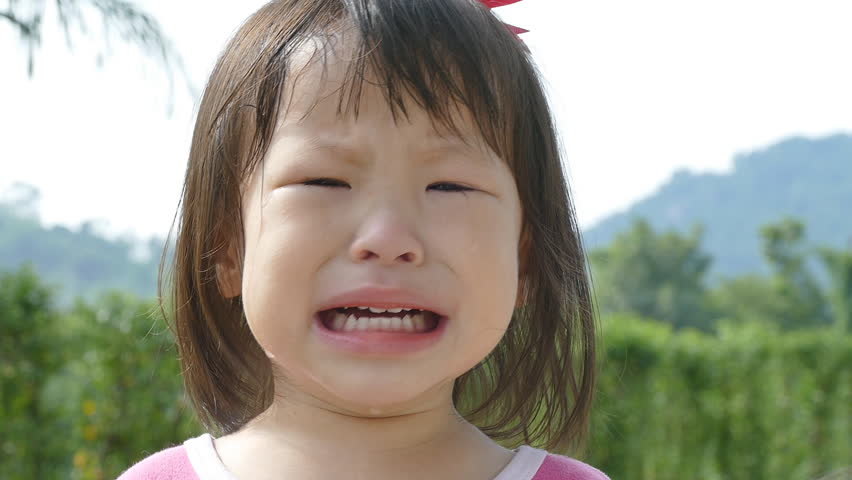sad: (257, 64, 514, 397)
